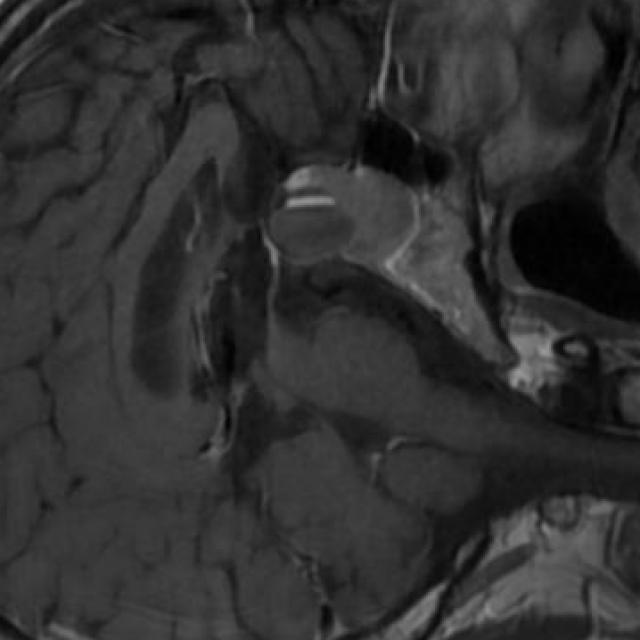pituitary: (276, 166, 415, 262)
